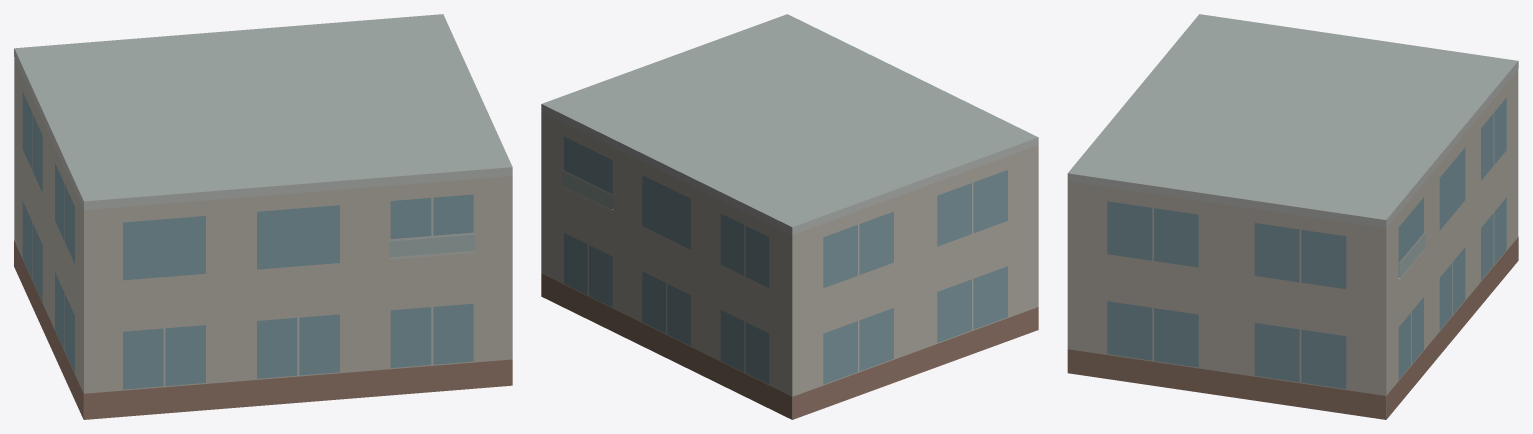
The model's file is survey-upis-32820551.glb.
3 renders of one model, left to right at view 1: azimuth 30°, elevation 25°; view 2: azimuth 150°, elevation 25°; view 3: azimuth 270°, elevation 25°, orthographic. The views are drawn at different scales.
Parts seen in each view (by area): view 1: survey-upis-32820551.tmp; view 2: survey-upis-32820551.tmp; view 3: survey-upis-32820551.tmp.
Boxes of the visible parts, x1=… form: survey-upis-32820551.tmp: x1=14, y1=14, x2=512, y2=419; survey-upis-32820551.tmp: x1=541, y1=14, x2=1038, y2=419; survey-upis-32820551.tmp: x1=1067, y1=14, x2=1518, y2=419.
Bounding box in the file's own units: 13.5 × 6.1 × 12.49.
